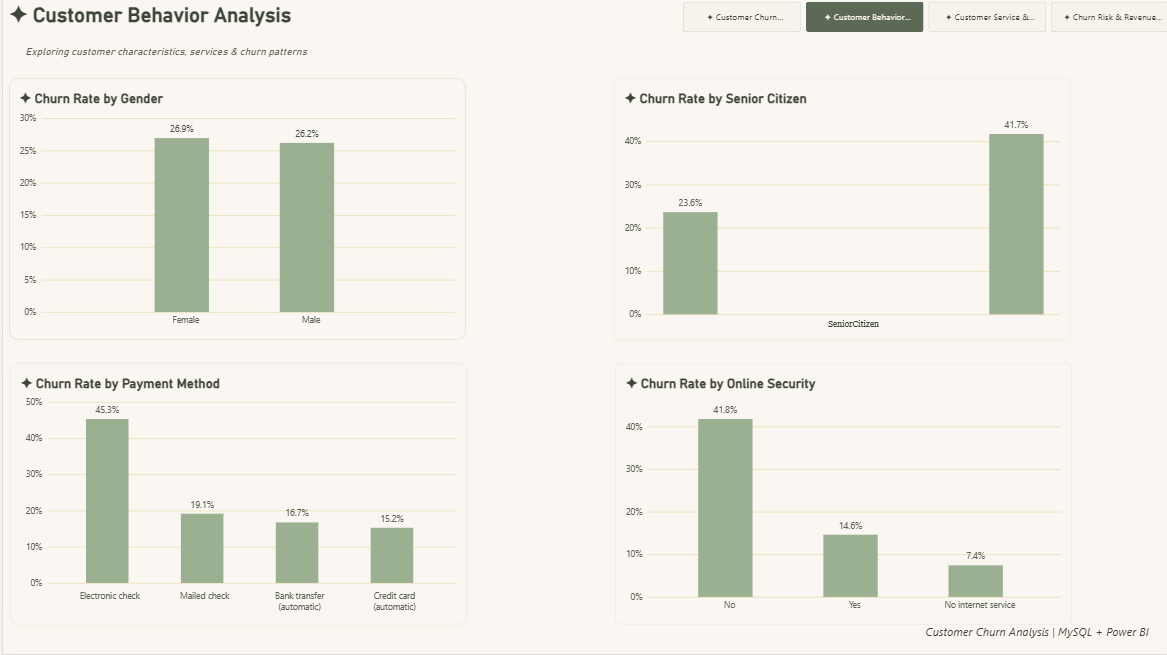

The page's visual inventory and layout, read from the dashboard file:
{"tool":"powerbi","page":{"name":"✦ Customer Behavior Analysis","canvas":[1920,1080],"ordinal":1},"visuals":[{"type":"textbox","box":[10.3,0,671,61.7],"z":0},{"type":"textbox","box":[37,78.2,514.6,32.9],"z":1},{"type":"clusteredColumnChart","title":"✦ Churn Rate by Gender","fields":{"Category":["customer_churn customers.gender"],"Y":["customer_churn customers.Churn Rate KPI"]},"box":[10.3,131.7,751.3,430.2],"z":2},{"type":"clusteredColumnChart","title":"✦ Churn Rate by Senior Citizen","fields":{"Category":["customer_churn customers.SeniorCitizen"],"Y":["customer_churn customers.Churn Rate KPI"]},"box":[1006.5,131.7,751,430],"z":3},{"type":"clusteredColumnChart","title":"✦ Churn Rate by Payment Method","fields":{"Category":["customer_churn customers.PaymentMethod"],"Y":["customer_churn customers.Churn Rate KPI"]},"box":[12.3,601,751,430],"z":4},{"type":"clusteredColumnChart","title":"✦ Churn Rate by Online Security","fields":{"Category":["customer_churn customers.OnlineSecurity"],"Y":["customer_churn customers.Churn Rate KPI"]},"box":[1008.6,601,751,430],"z":5},{"type":"pageNavigator","box":[1119.7,6.2,800,50],"z":6},{"type":"textbox","box":[1519,1031.2,401.4,49.4],"z":7}]}

Visuals, with their boxes in screenshot pixels (x1, y1, x2, y2), scaled from the page's 1920x1080 canvas onto the 1167x655 screenshot:
textbox: <bbox>6, 0, 414, 37</bbox>
textbox: <bbox>22, 47, 335, 67</bbox>
"✦ Churn Rate by Gender" clusteredColumnChart: <bbox>6, 80, 463, 341</bbox>
"✦ Churn Rate by Senior Citizen" clusteredColumnChart: <bbox>612, 80, 1068, 341</bbox>
"✦ Churn Rate by Payment Method" clusteredColumnChart: <bbox>7, 364, 464, 625</bbox>
"✦ Churn Rate by Online Security" clusteredColumnChart: <bbox>613, 364, 1070, 625</bbox>
pageNavigator: <bbox>681, 4, 1166, 34</bbox>
textbox: <bbox>923, 625, 1166, 654</bbox>
